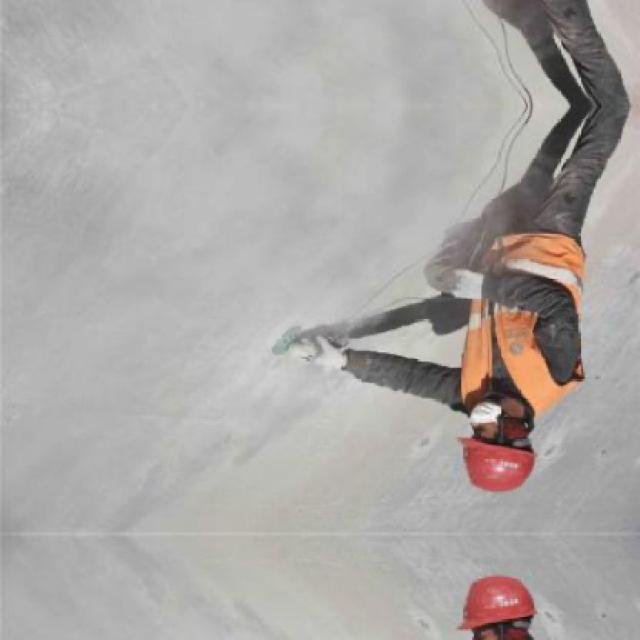con casco: (411, 405, 566, 522)
